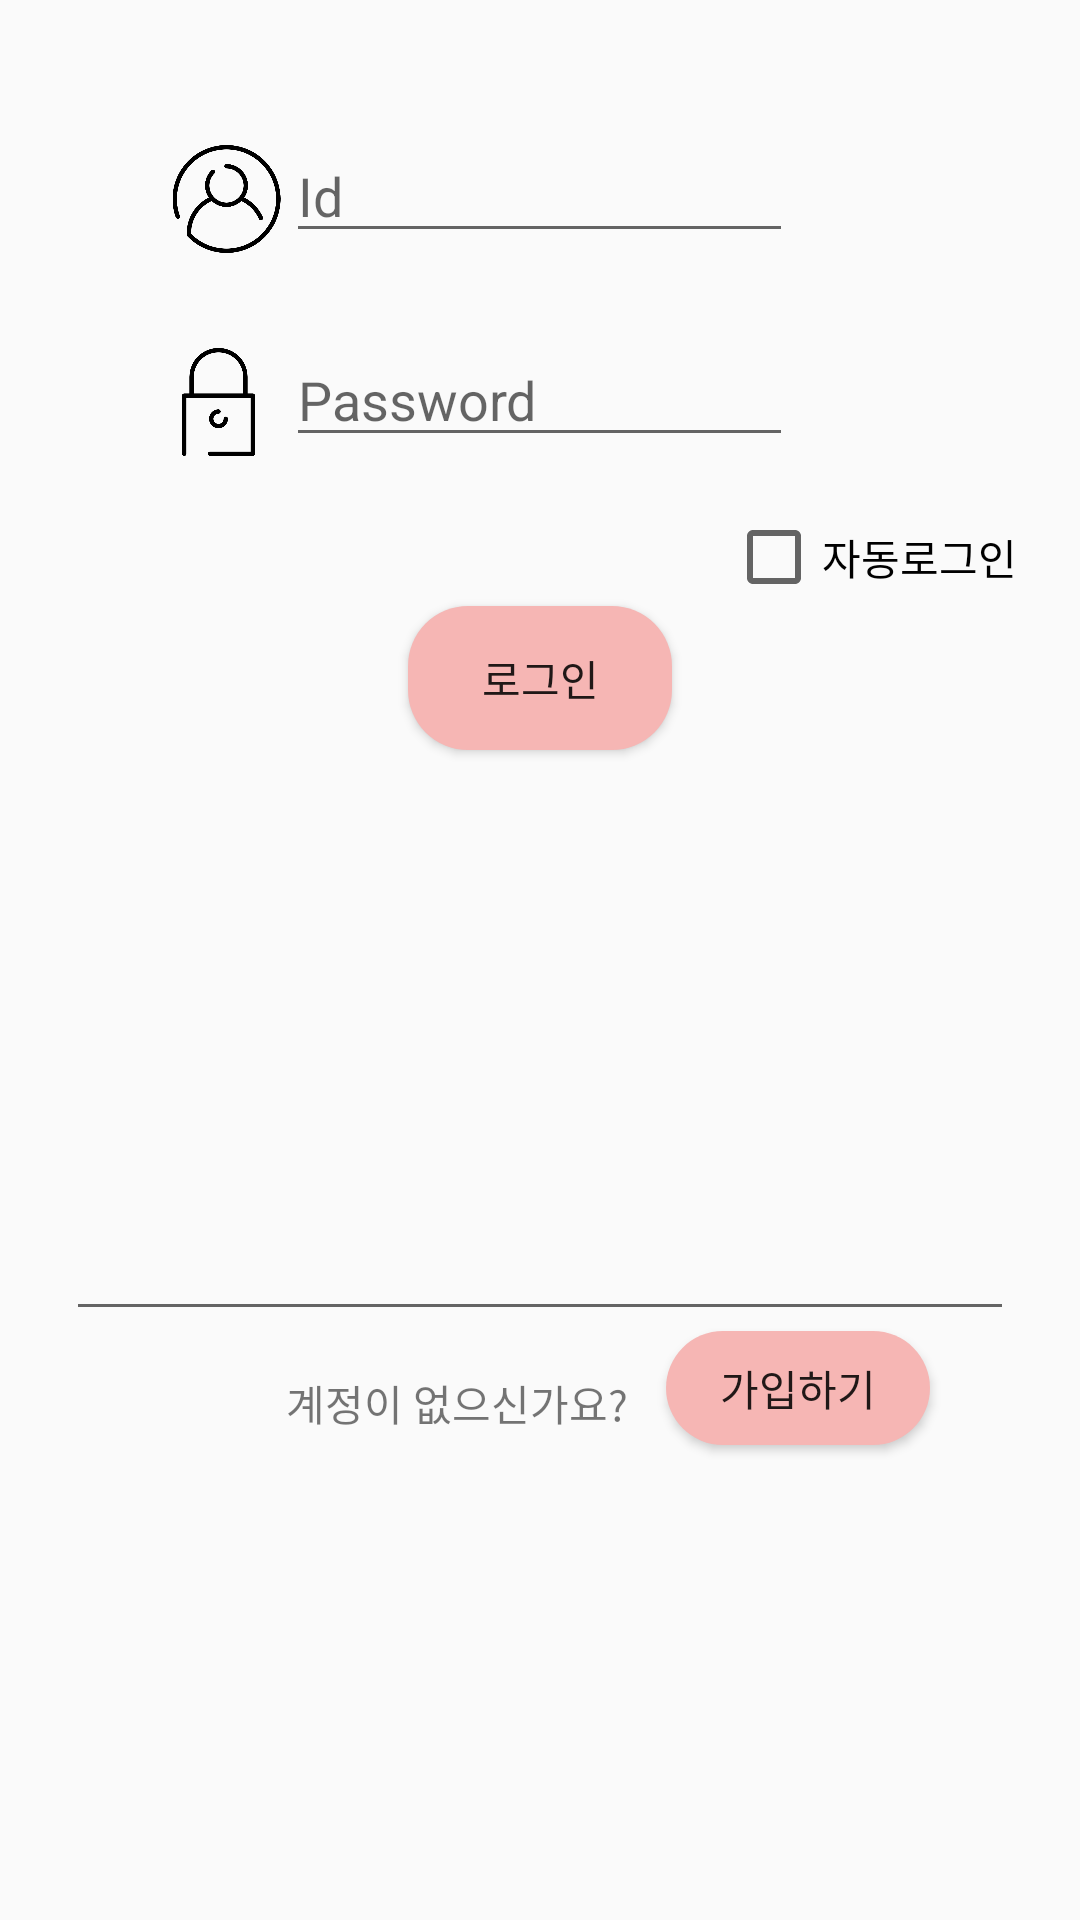

Named icons in this screenshot (1080 x 1920) and their bounding boxes, (x1, y1, x2, y2):
padlock: (182, 348, 255, 456)
user: (173, 145, 281, 253)
